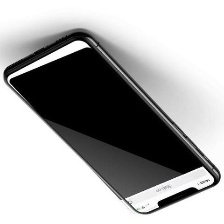phone: (0, 28, 220, 217)
